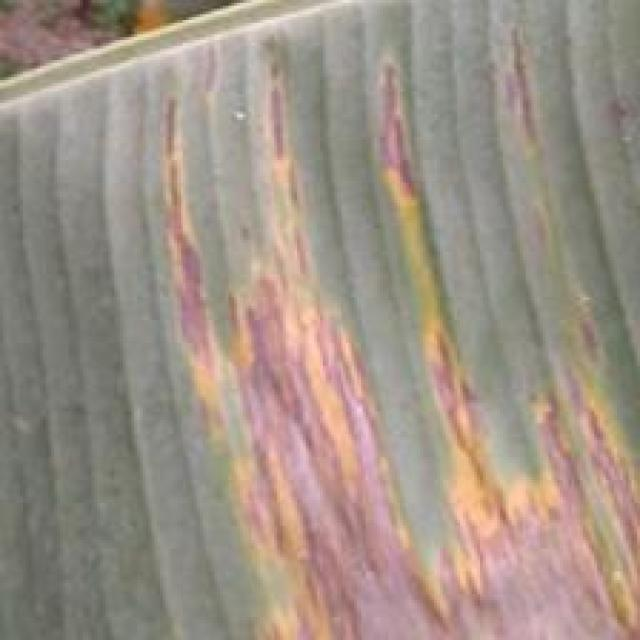Early_leaf_spot: (202, 30, 416, 640), (384, 256, 640, 640), (138, 68, 221, 436), (366, 34, 436, 241), (490, 32, 560, 172), (590, 72, 640, 162)
